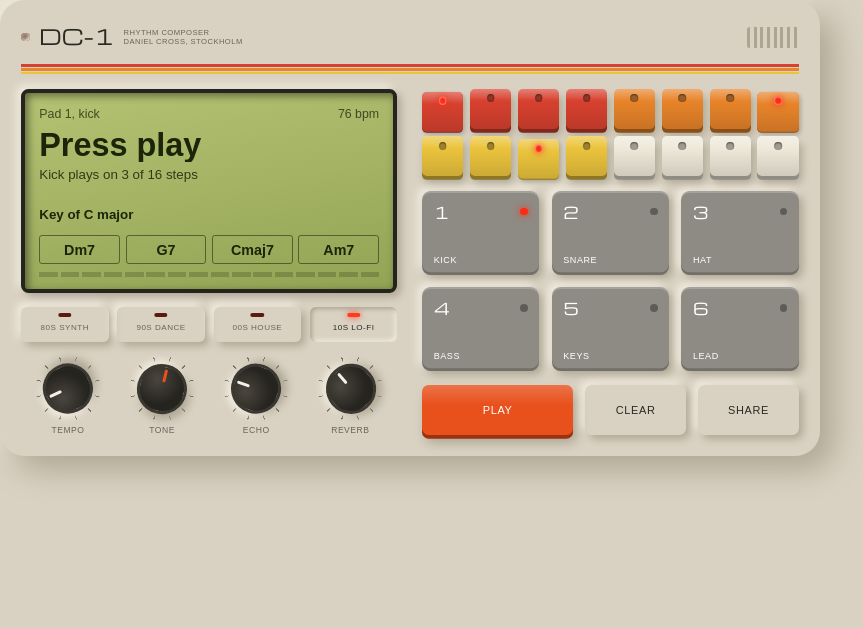
Test: Key + moves the whole song up a semitone
What coordinates should you click on to do the following:
click the button "G7"
I would click on:
 (166, 250)
Its box is top-left (126, 235), bottom-right (206, 264).
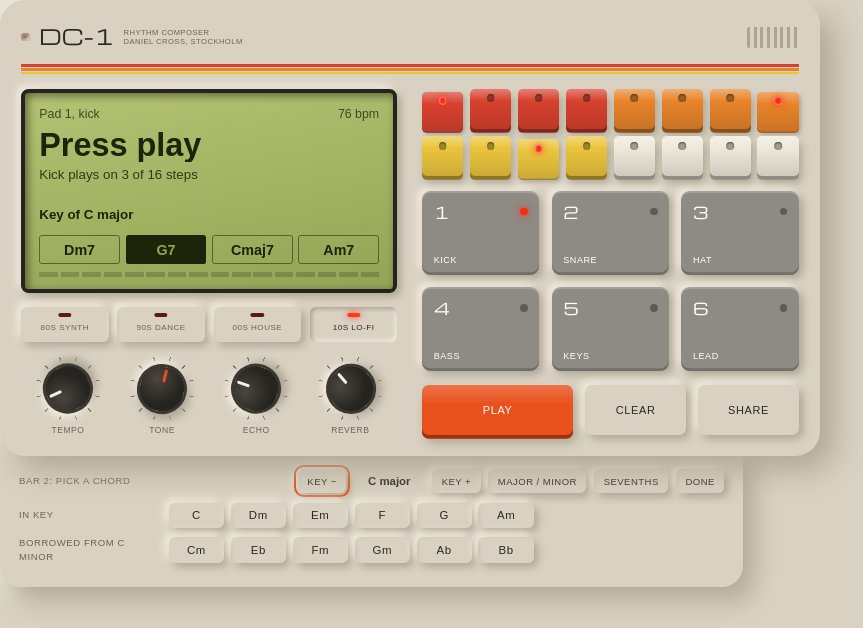
What coordinates should you click on to do the following:
click the button "Key +"
I would click on:
 (456, 481)
Its box is top-left (432, 469), bottom-right (481, 493).
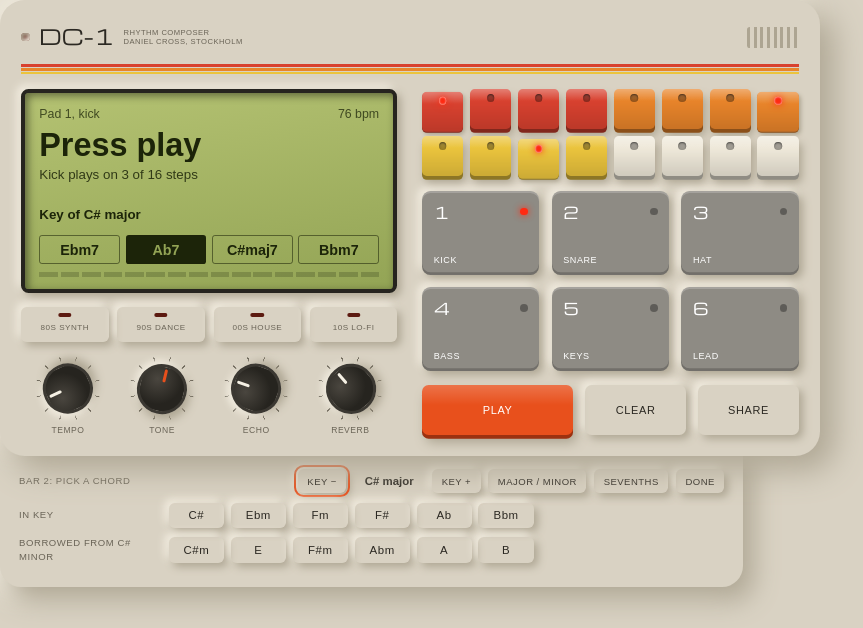
Check: the text "Key of C# major" is shown, box top-left (39, 207), bottom-right (141, 222)
Check: the button "Ebm7" is shown, box top-left (39, 235), bottom-right (120, 264)
